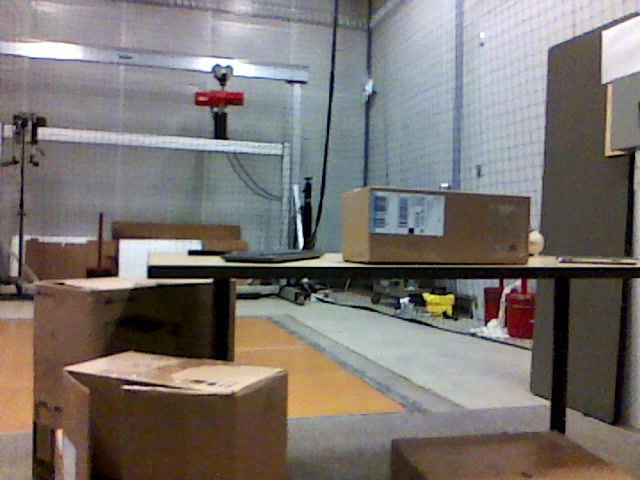box: (33, 275, 234, 480), (60, 351, 287, 475), (340, 187, 531, 265), (392, 428, 629, 480)
